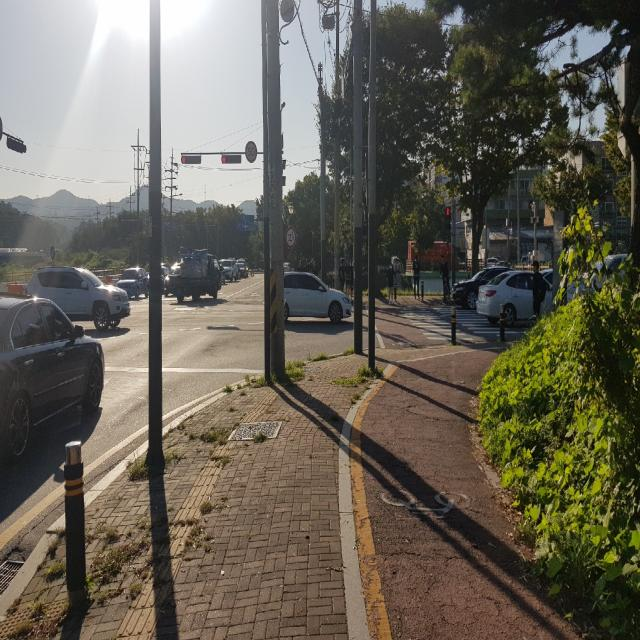빨간불: (444, 203, 453, 246)
횡단보도: (398, 306, 529, 341)
